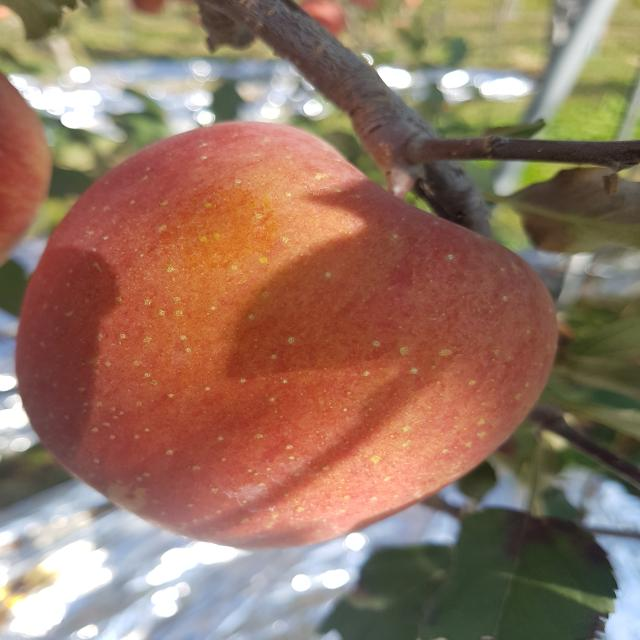fresh: (4, 114, 575, 562)
